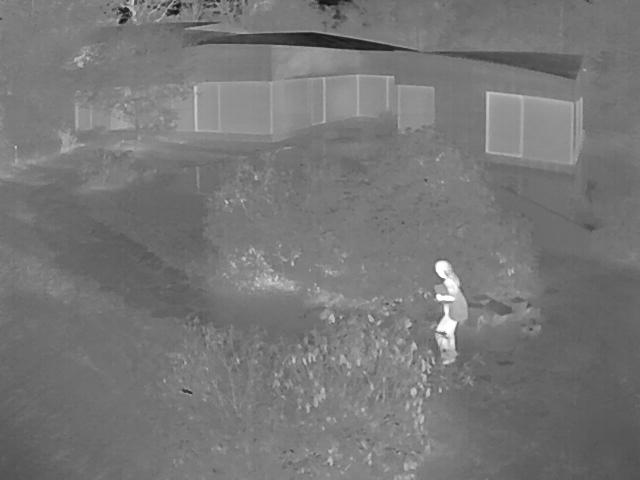person: (435, 260, 470, 364)
